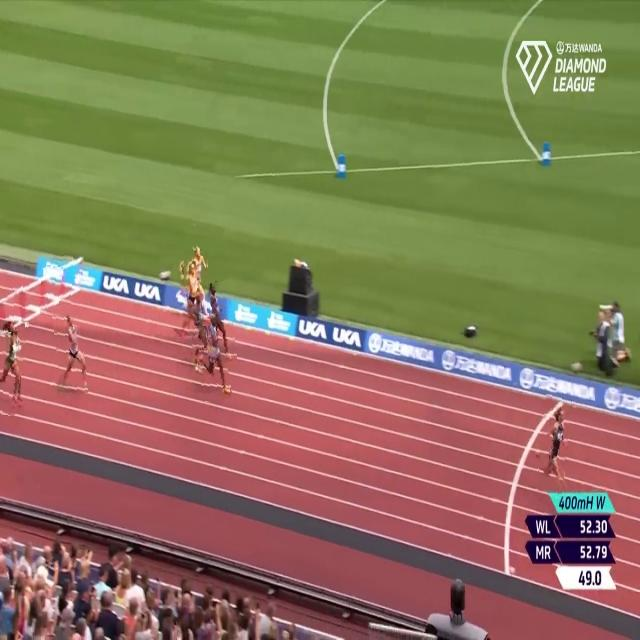athlete: (192, 307, 229, 402), (539, 394, 570, 494), (55, 312, 86, 396), (205, 281, 235, 363), (0, 317, 25, 415), (183, 243, 210, 326), (180, 259, 204, 350)
hurdle: (60, 253, 83, 305), (41, 265, 62, 315), (3, 286, 24, 332), (22, 278, 41, 322)
